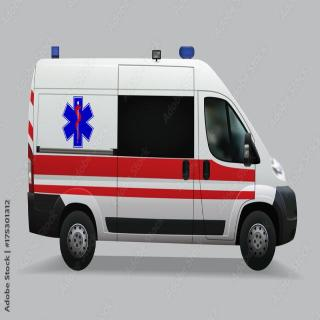Ambulance: (25, 31, 297, 298)
